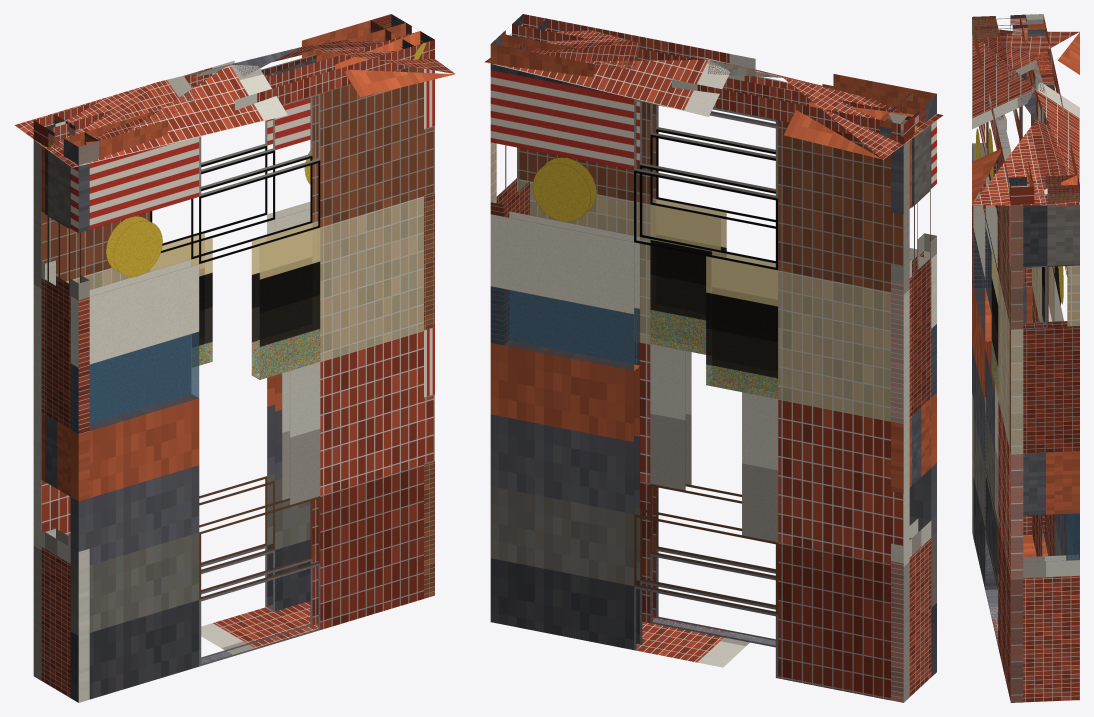
3 views of the same model, side by side, from view 1: azimuth 30°, elevation 25°; view 2: azimuth 150°, elevation 25°; view 3: azimuth 270°, elevation 25° (orthographic). The views are drawn at different scales.
Parts seen in each view (by area): view 1: 238531853__wall_3_xb, 238531853__wall_0_xb, 238531853__wall_2_xb, 238531853__wall_3_xf, 238531853_roof_front_xb, 238531853__cornice_3, 238531853_roof_left_xb, 238531853__wall_4_xb, 238531853__cornice_0, 238531853__base, 238531853__wall_0_xf, 238531853__wall_1_xb (+3 smaller); view 2: 238531853__wall_0_xb, 238531853__wall_3_xb, 238531853__wall_0_xf, 238531853__wall_2_xb, 238531853__wall_3_xf, 238531853_roof_back_xb, 238531853__cornice_0, 238531853__wall_1_xb, 238531853__cornice_3, 238531853_roof_right_xb, 238531853__base, 238531853_roof_left_xb (+1 smaller); view 3: 238531853__wall_4_xb, 238531853__wall_3_xb, 238531853__wall_0_xb, 238531853_roof_right_xb, 238531853_roof_front_xb, 238531853_roof_back_xb, 238531853_roof_left_xb, 238531853__wall_2_xb, 238531853__wall_3_xf, 238531853__cornice_3, 238531853__cornice_4, 238531853__cornice_0 (+5 smaller).
Boxes of the visible parts, <box> form: 238531853__wall_3_xb: <box>70,66,434,702</box>; 238531853__wall_0_xb: <box>33,58,316,680</box>; 238531853__wall_2_xb: <box>45,148,89,702</box>; 238531853__wall_3_xf: <box>71,216,319,433</box>; 238531853_roof_front_xb: <box>73,64,454,167</box>; 238531853__cornice_3: <box>64,31,434,165</box>; 238531853_roof_left_xb: <box>14,47,298,167</box>; 238531853__wall_4_xb: <box>424,68,434,598</box>; 238531853__cornice_0: <box>33,14,405,147</box>; 238531853__base: <box>201,601,318,654</box>; 238531853__wall_0_xf: <box>150,150,265,364</box>; 238531853__wall_1_xb: <box>41,146,55,682</box>; 238531853__wall_0_xb: <box>490,64,909,702</box>; 238531853__wall_3_xb: <box>517,87,936,676</box>; 238531853__wall_0_xf: <box>491,102,777,590</box>; 238531853__wall_2_xb: <box>909,125,936,694</box>; 238531853__wall_3_xf: <box>650,199,936,396</box>; 238531853_roof_back_xb: <box>485,60,882,159</box>; 238531853__cornice_0: <box>490,34,914,144</box>; 238531853__wall_1_xb: <box>891,139,911,702</box>; 238531853__cornice_3: <box>512,14,936,122</box>; 238531853_roof_right_xb: <box>484,30,782,77</box>; 238531853__base: <box>636,617,755,667</box>; 238531853_roof_left_xb: <box>654,46,943,159</box>; 238531853__wall_4_xb: <box>1009,205,1079,702</box>; 238531853__wall_3_xb: <box>972,116,1023,702</box>; 238531853__wall_0_xb: <box>1031,50,1079,560</box>; 238531853_roof_right_xb: <box>972,57,1079,205</box>; 238531853_roof_front_xb: <box>972,35,1034,204</box>; 238531853_roof_back_xb: <box>1035,32,1079,204</box>; 238531853_roof_left_xb: <box>979,31,1079,120</box>; 238531853__wall_2_xb: <box>972,72,1026,536</box>; 238531853__wall_3_xf: <box>973,129,997,393</box>; 238531853__cornice_3: <box>974,16,1034,205</box>; 238531853__cornice_4: <box>1008,175,1079,203</box>; 238531853__cornice_0: <box>1020,14,1078,185</box>.
Bounding box in the file's own units: 0.5236 × 0.7413 × 0.1375.
1 material, 1 textured.
